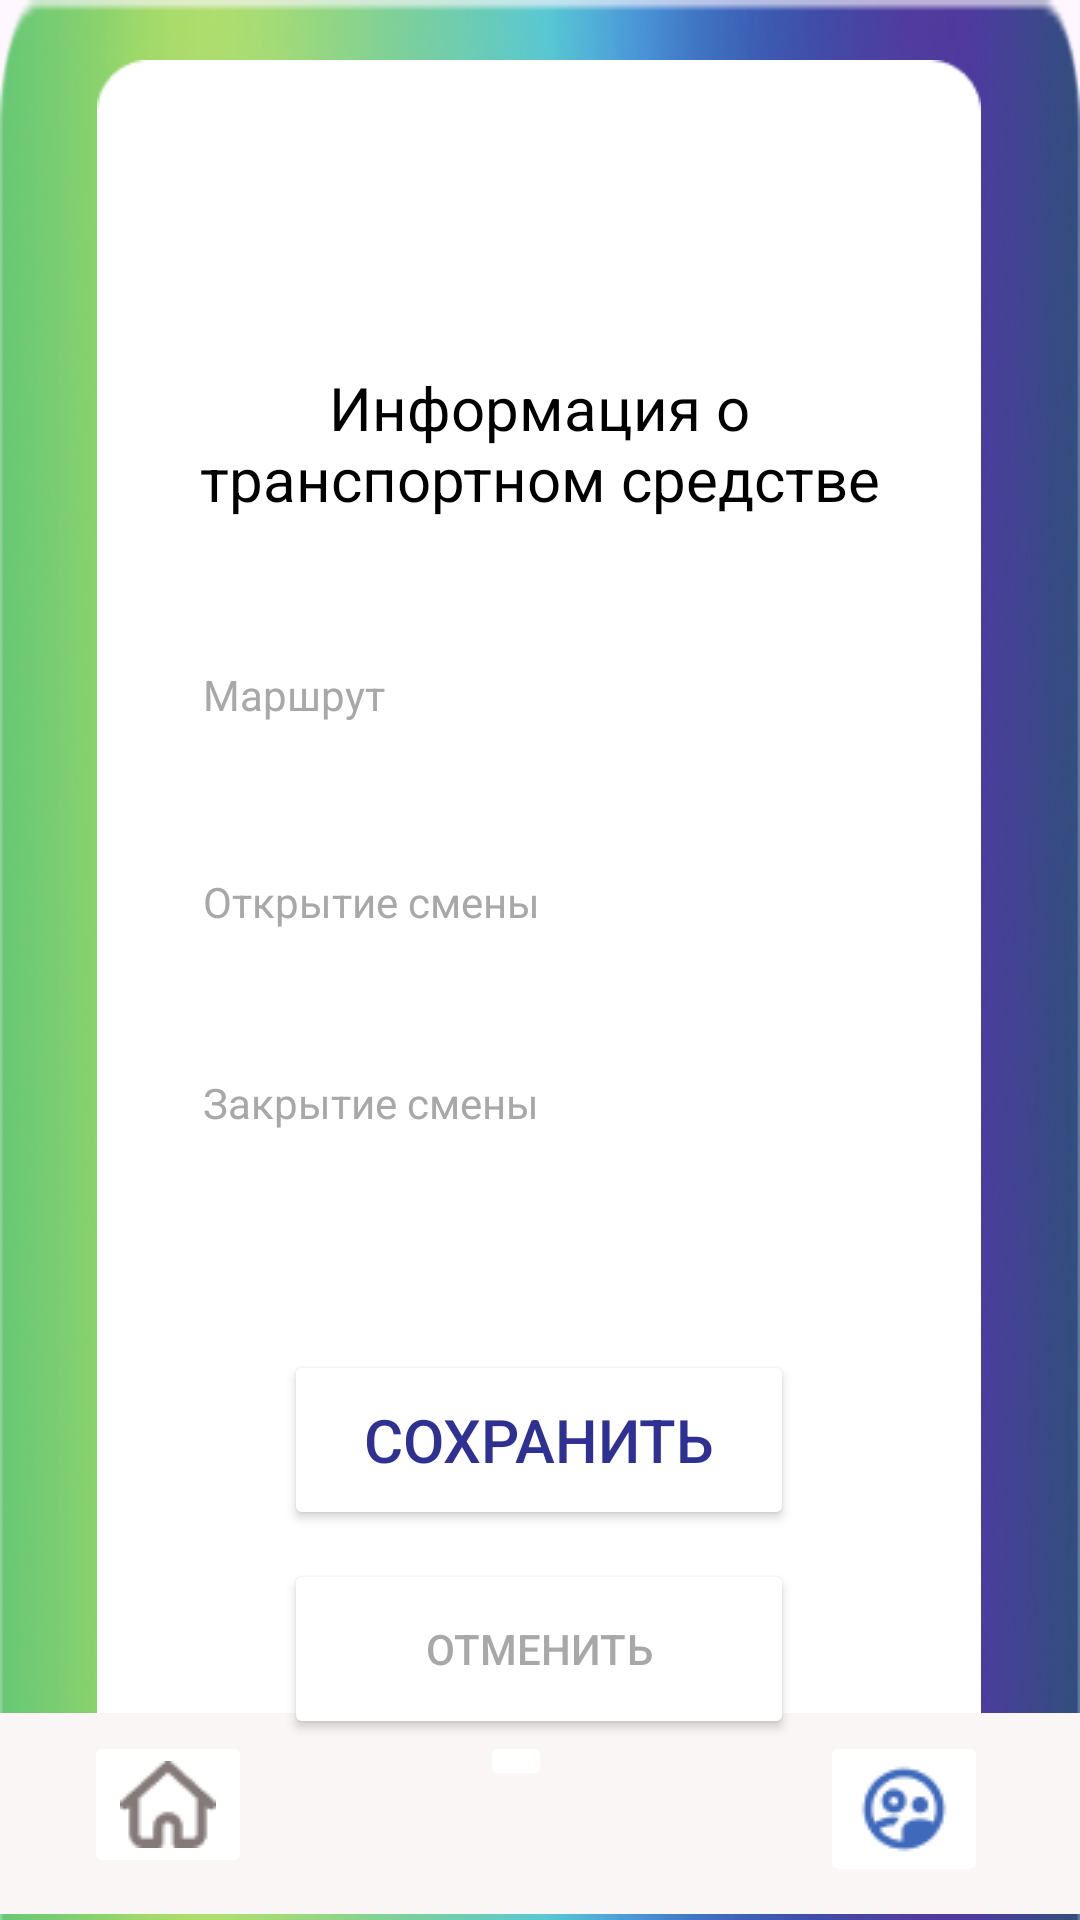

Where to tap for icons on this 1080px x 1920px app screen, as point (x, y):
home: point (168, 1804)
supervised user circle: point (904, 1809)
